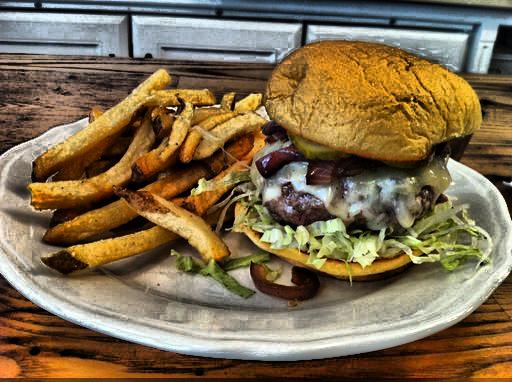burger: (253, 33, 470, 273)
